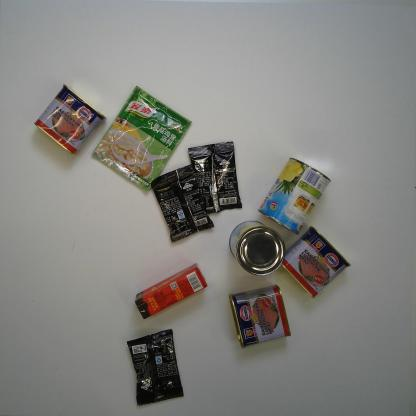Canned Food: (256, 156, 332, 236), (34, 83, 107, 156), (281, 225, 351, 299), (228, 284, 292, 349), (228, 219, 286, 276)
Drink: (134, 263, 208, 320)
Instant Drink: (150, 164, 216, 244), (126, 328, 184, 406), (188, 140, 243, 214)
Seasoner: (90, 85, 193, 191)
